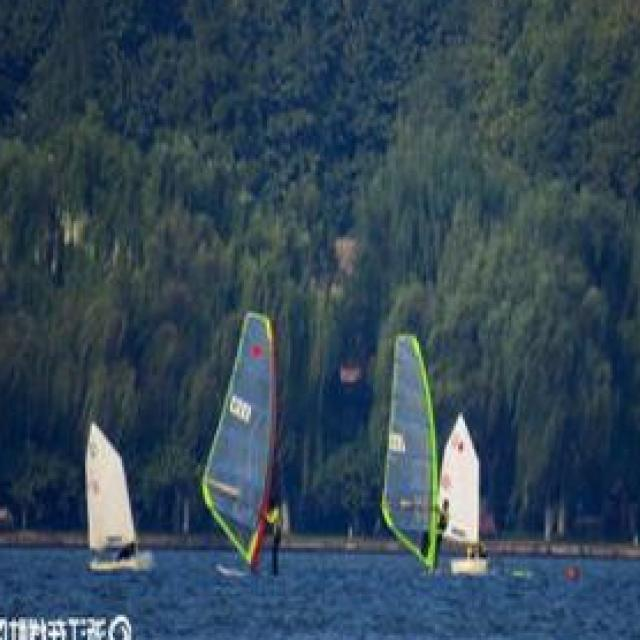sailboat: (189, 314, 299, 592), (388, 337, 477, 593), (59, 420, 165, 582)
